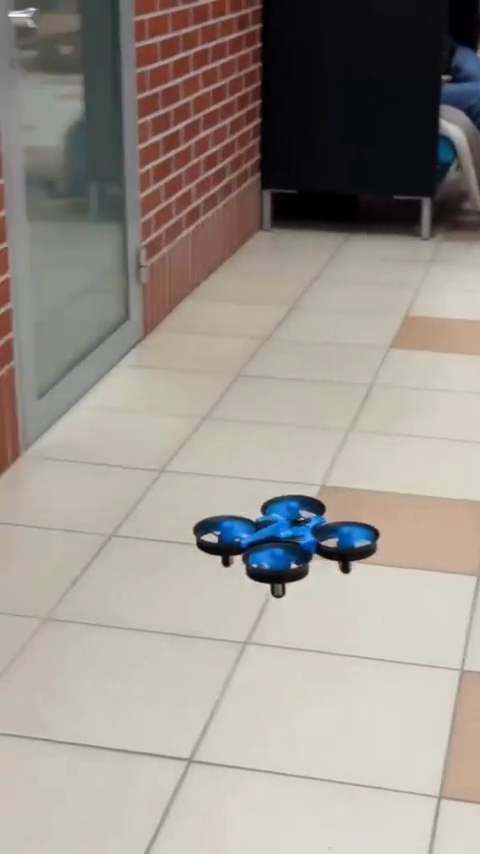drone: (197, 497, 379, 596)
